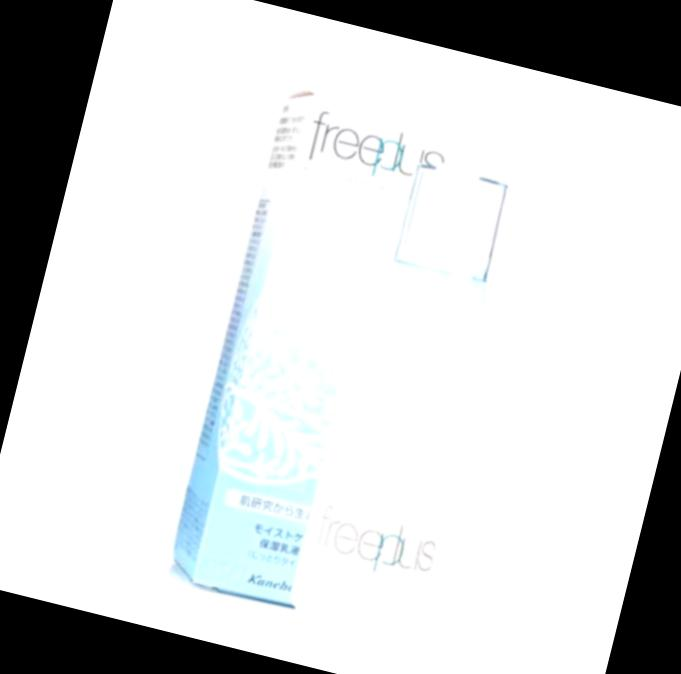cosmetic: (282, 153, 535, 647)
